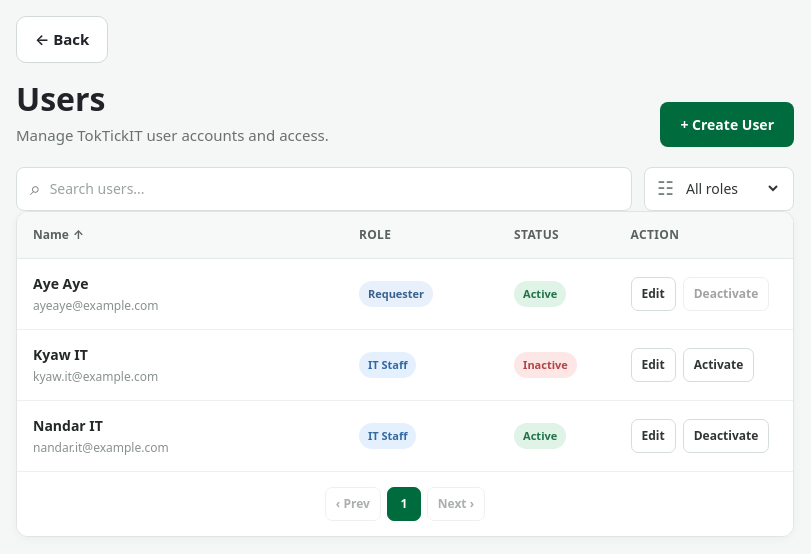
Test case: Lab 3 Administrator User Management UI › allows searching users
This screenshot has width=811, height=554.
Check: the text "Aye Aye" is shown, box x1=33 y1=274 x2=88 y2=293
Type "Nandar" into the search field labelled "Search users" at (329,189), box x1=41 y1=178 x2=618 y2=199
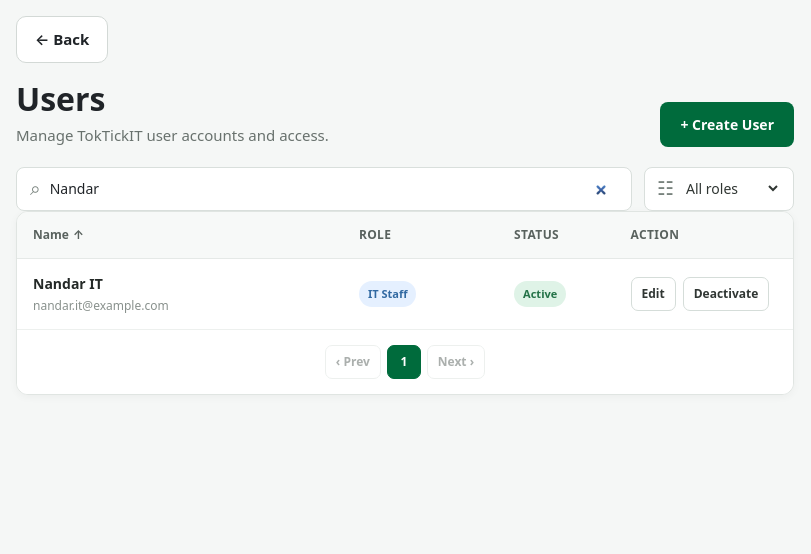
Check: the text "Nandar IT" is shown, box x1=33 y1=274 x2=103 y2=293
Check: the text "Aye Aye" is gone
